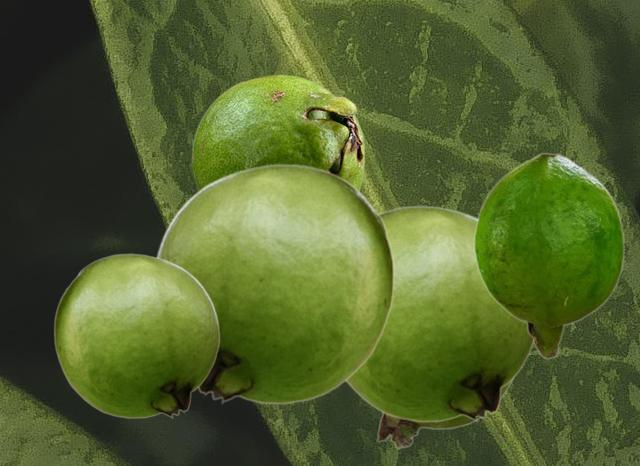guava: (154, 163, 394, 403), (346, 205, 534, 422), (473, 152, 624, 359), (53, 253, 219, 418), (191, 74, 364, 191), (375, 381, 513, 448)
